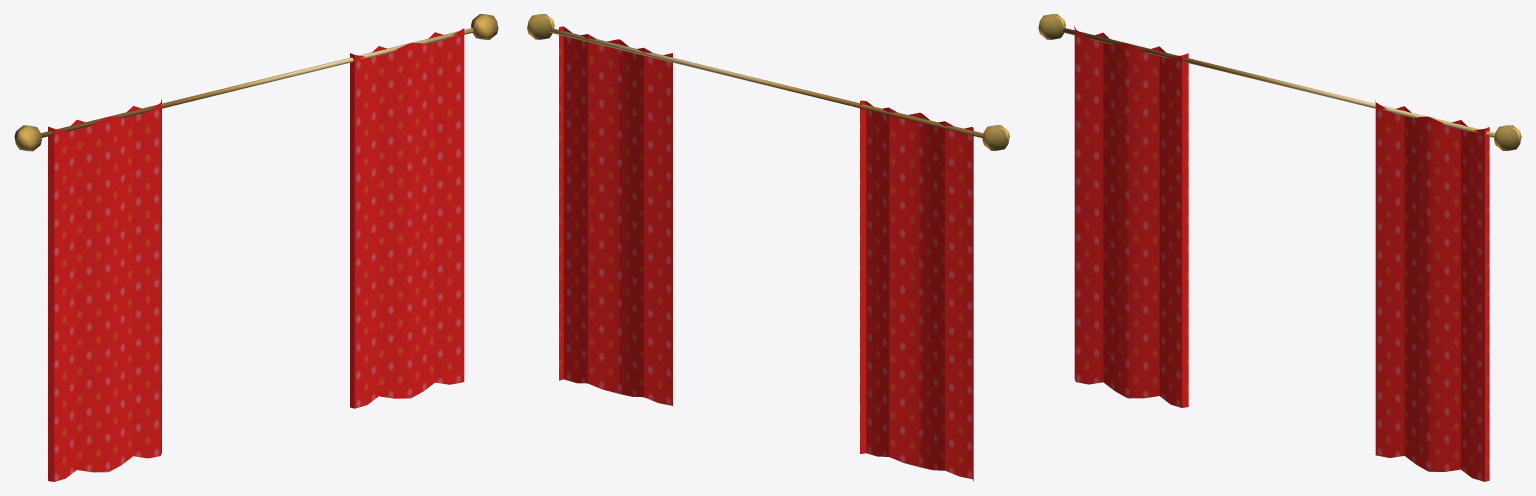
File: Straight_Curtains_05.FBX
The picture shows the model from 3 angles, left to right: view 1: azimuth 30°, elevation 25°; view 2: azimuth 150°, elevation 25°; view 3: azimuth 330°, elevation 25°; orthographic projection.
Visible parts, largest first — view 1: Straight_Curtain; view 2: Straight_Curtain; view 3: Straight_Curtain.
Boxes of the visible parts, box(x1,y1,x2,y2) form: Straight_Curtain: box(14, 14, 498, 481); Straight_Curtain: box(527, 14, 1009, 481); Straight_Curtain: box(1038, 14, 1521, 481).
Bounding box in the file's own units: 582 × 421 × 29.96.
